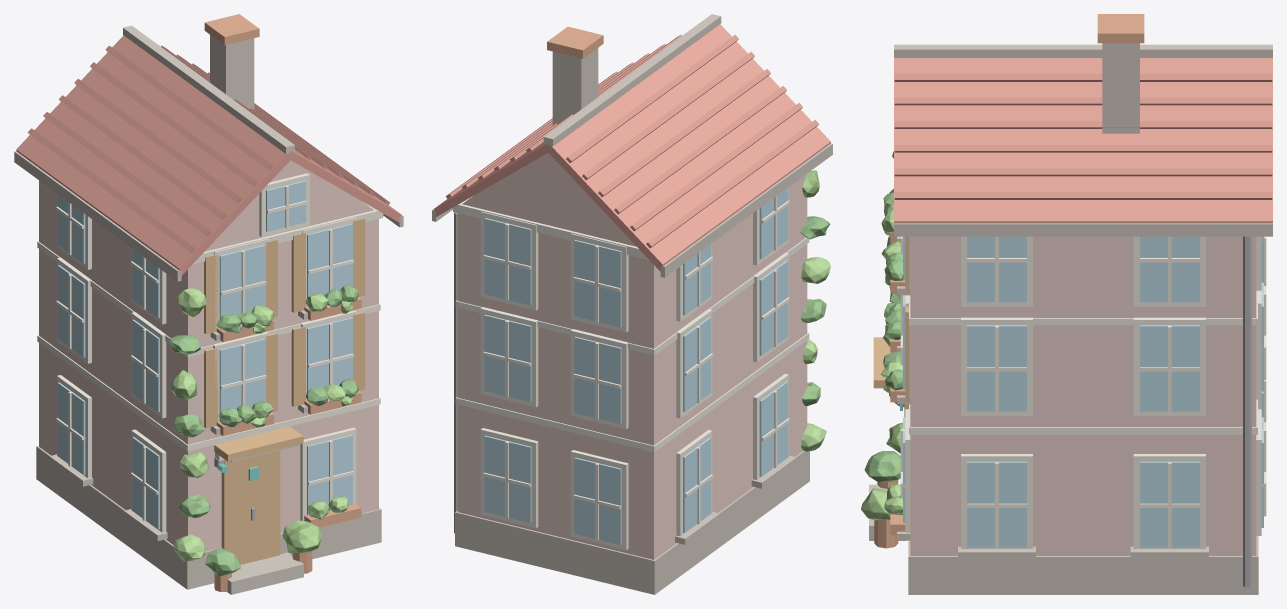
The model's file is Building_Townhouse_D.fbx.
3 views of the same model, side by side, from view 1: azimuth 30°, elevation 25°; view 2: azimuth 150°, elevation 25°; view 3: azimuth 270°, elevation 25° (orthographic). The views are drawn at different scales.
Parts seen in each view (by area): view 1: Building_Townhouse_D, Building_Townhouse_D_Veg; view 2: Building_Townhouse_D, Building_Townhouse_D_Veg; view 3: Building_Townhouse_D, Building_Townhouse_D_Veg.
Part boxes in pixels (left/top/right/bottom): Building_Townhouse_D: left=14, top=14, right=403, bottom=594; Building_Townhouse_D_Veg: left=169, top=285, right=361, bottom=591; Building_Townhouse_D: left=432, top=14, right=832, bottom=594; Building_Townhouse_D_Veg: left=800, top=170, right=830, bottom=451; Building_Townhouse_D: left=869, top=14, right=1272, bottom=594; Building_Townhouse_D_Veg: left=861, top=151, right=905, bottom=548.
Size of the model in its own units: 4.04 by 7.9 by 5.48.
